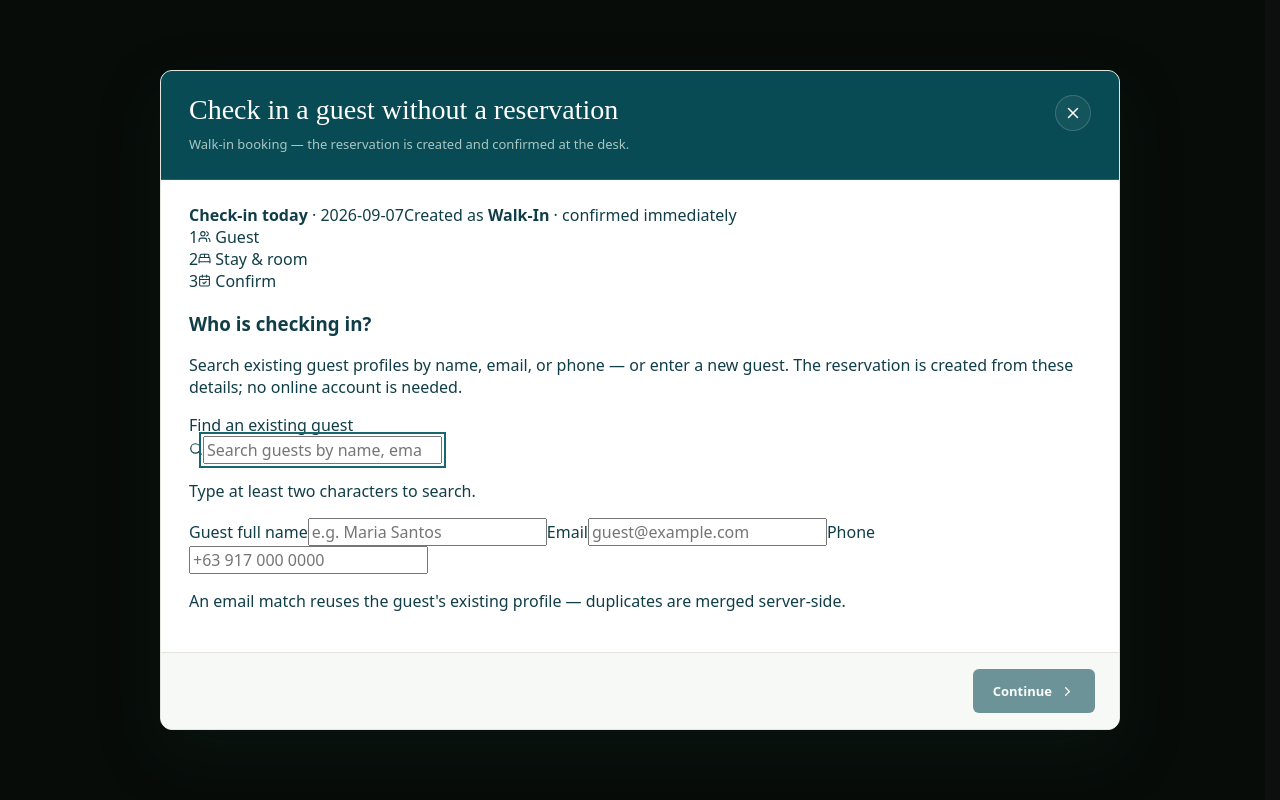
Test: WalkInDialog on the shared Modal › keeps Continue disabled until the guest fields are valid
Check: the button "Continue" is disabled, box [973,669,1095,713]
In the field labelled "Guest full name": {"x": 427, "y": 532} [308,518,547,546], type "Maria Santos"
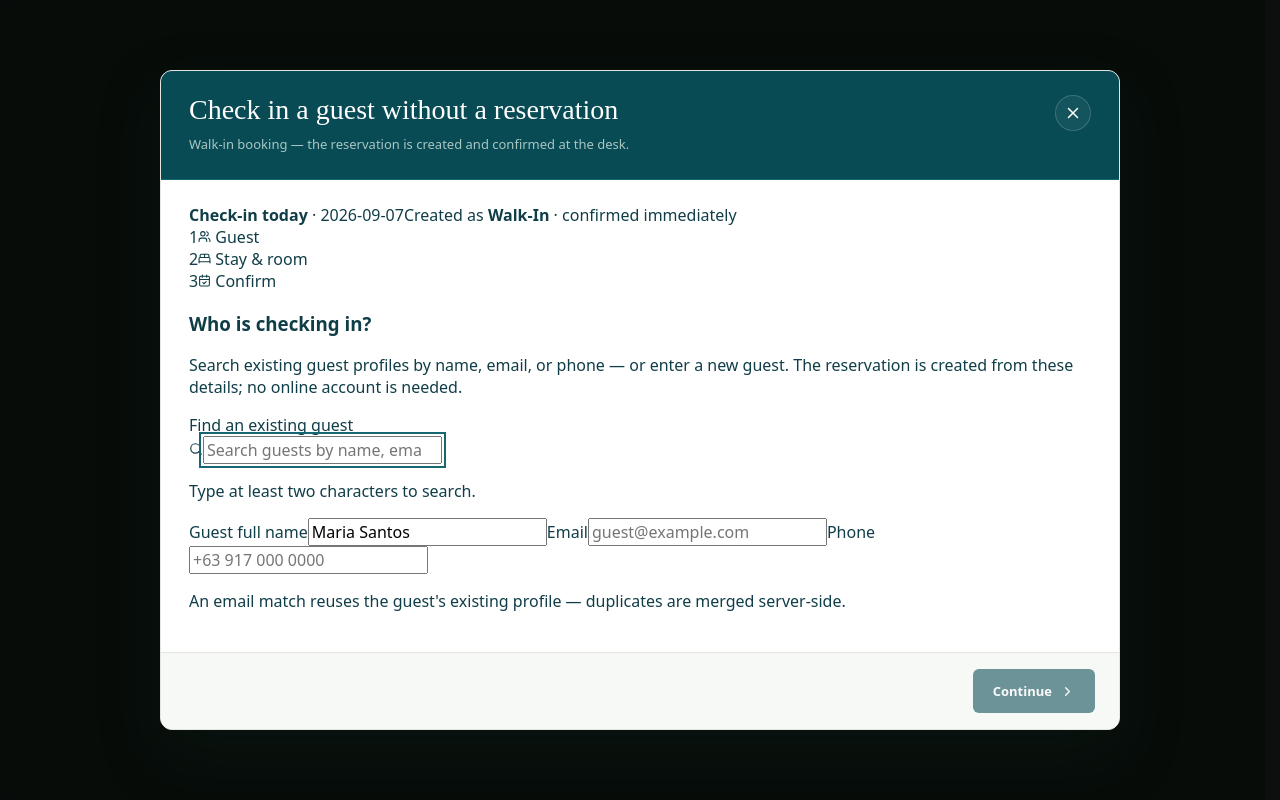
In the field labelled "Email": {"x": 707, "y": 532} [588,518,827,546], type "maria@example.com"
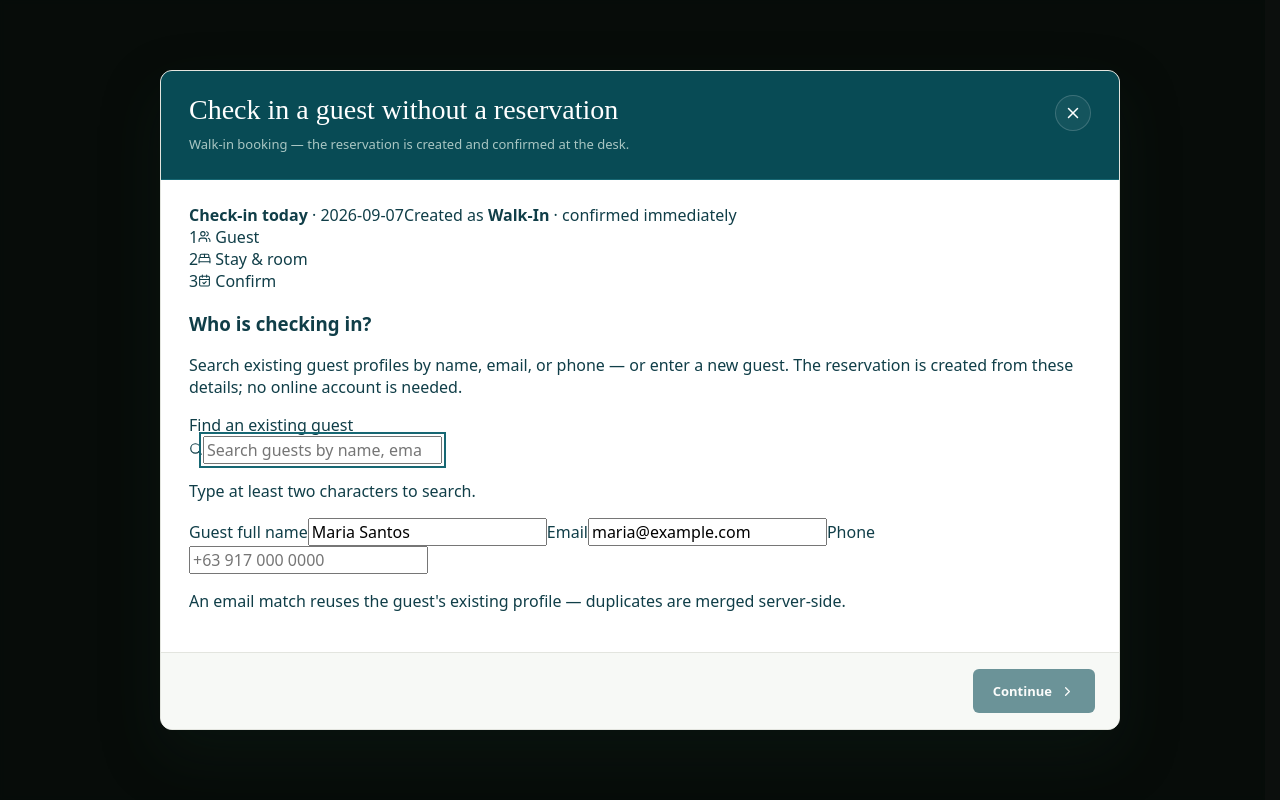
In the field labelled "Phone": {"x": 308, "y": 560} [189,546,428,574], type "+63 917 000 0001"
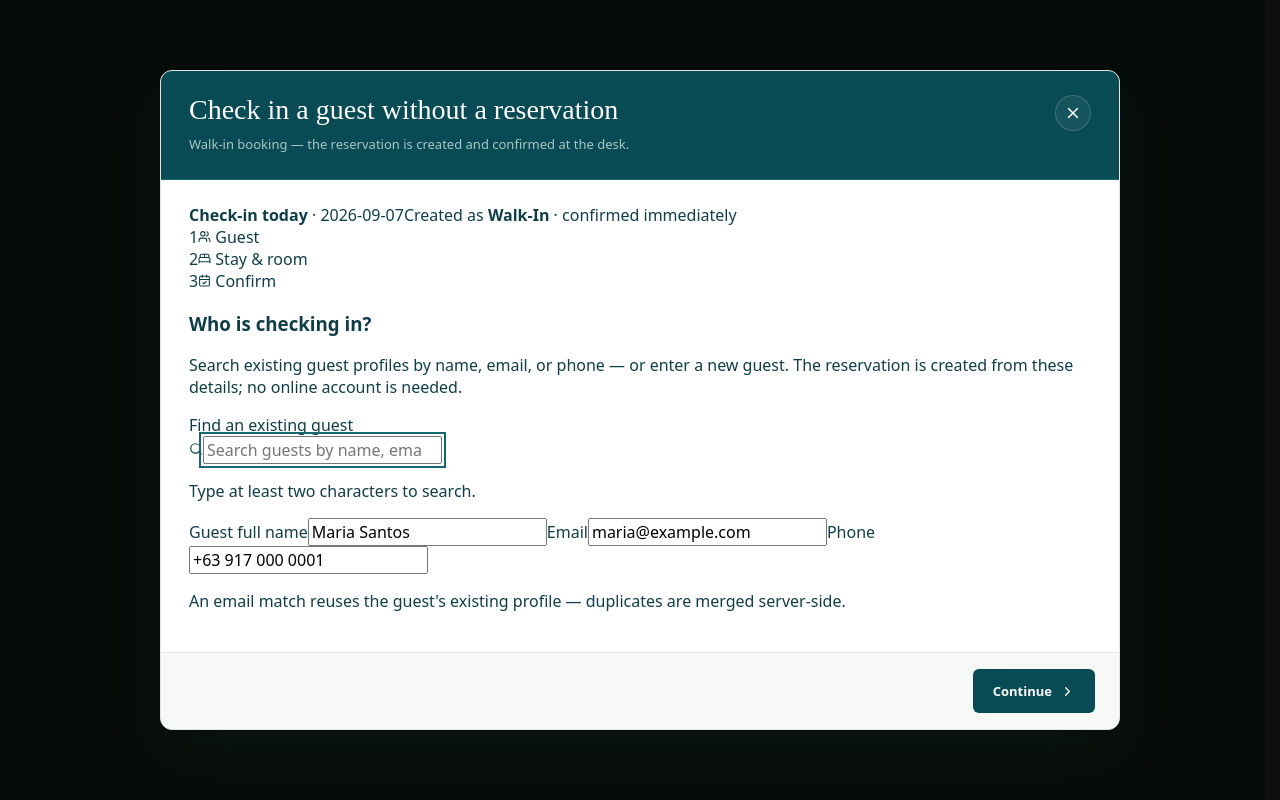
Check: the button "Continue" is enabled, box [973,669,1095,713]
